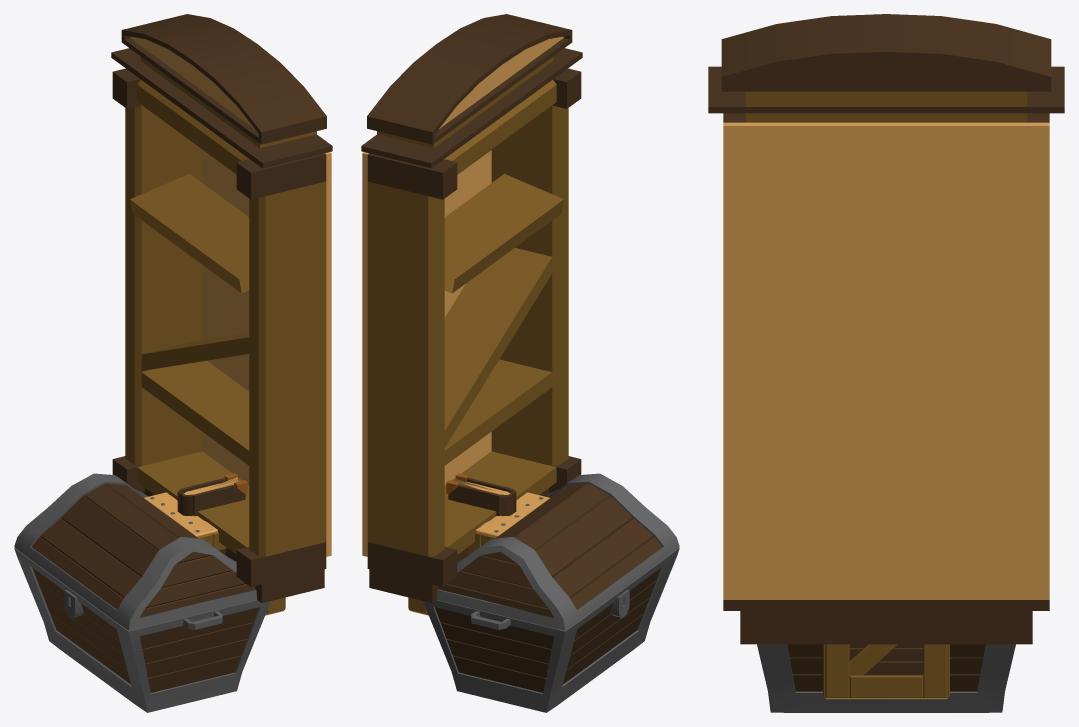
File: Props_02.FBX
The picture shows the model from 3 angles, left to right: view 1: azimuth 30°, elevation 25°; view 2: azimuth 150°, elevation 25°; view 3: azimuth 270°, elevation 25°; orthographic projection. The views are drawn at different scales.
Visible parts, largest first — view 1: Bookshelf_02, Chest_Lid, Chest, Book, Crate; view 2: Bookshelf_02, Chest_Lid, Chest, Book, Crate; view 3: Bookshelf_02, Chest, Crate.
Part boxes in pixels (box(x1,y1,x2,y2)): Bookshelf_02: box(111, 14, 332, 603); Chest_Lid: box(14, 473, 257, 630); Chest: box(14, 547, 270, 712); Book: box(177, 473, 247, 516); Crate: box(144, 492, 285, 615); Bookshelf_02: box(361, 14, 582, 603); Chest_Lid: box(436, 473, 679, 630); Chest: box(423, 547, 679, 712); Book: box(446, 473, 516, 516); Crate: box(408, 492, 549, 615); Bookshelf_02: box(708, 14, 1064, 644); Chest: box(757, 644, 1015, 712); Crate: box(823, 644, 949, 699).
Bounding box in the file's own units: 21.45 × 63.19 × 29.14.
